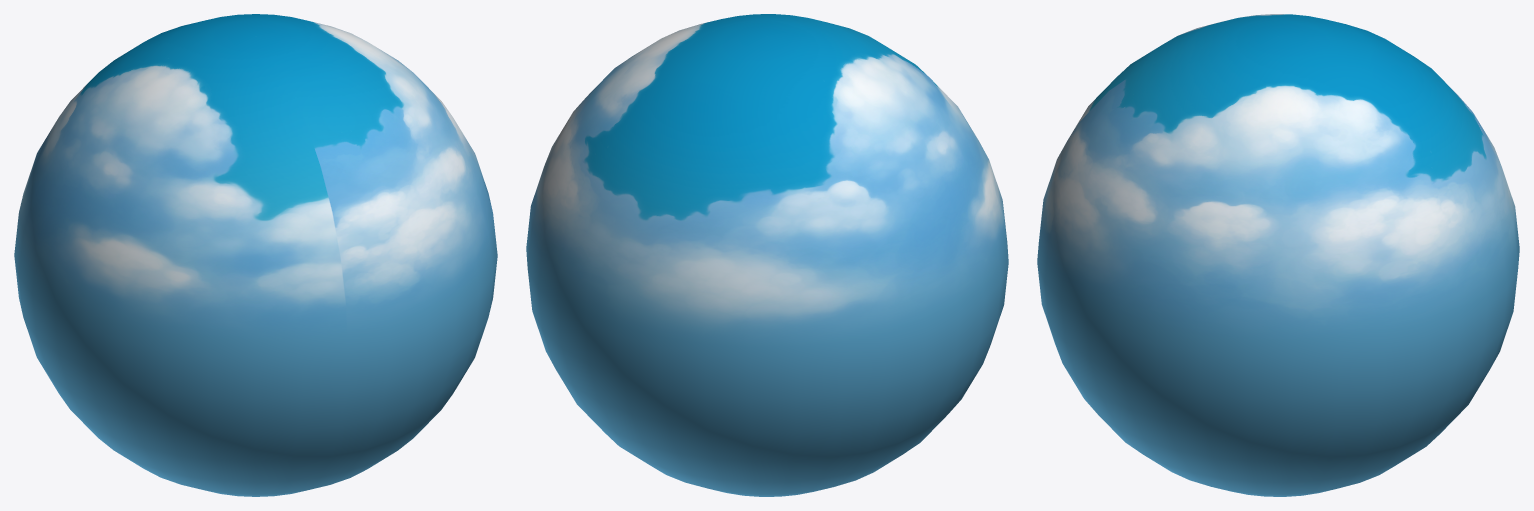
The model's file is sky.FBX.
3 renders of one model, left to right at view 1: azimuth 30°, elevation 25°; view 2: azimuth 150°, elevation 25°; view 3: azimuth 270°, elevation 25°, orthographic.
Visible parts, largest first — view 1: sky; view 2: sky; view 3: sky.
Boxes of the visible parts, x1=… form: sky: x1=14, y1=14, x2=497, y2=496; sky: x1=526, y1=14, x2=1008, y2=496; sky: x1=1037, y1=14, x2=1519, y2=496.
Size of the model in its own units: 37203 by 37203 by 37276.
